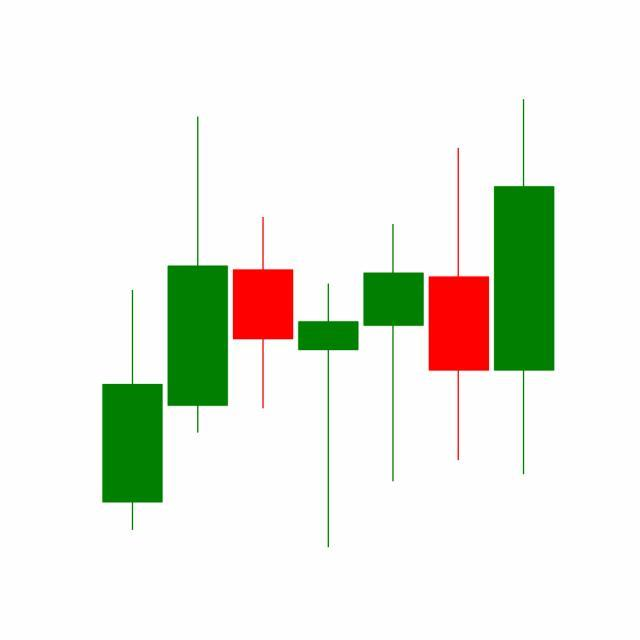Hikkake Pattern: (229, 99, 555, 549)
